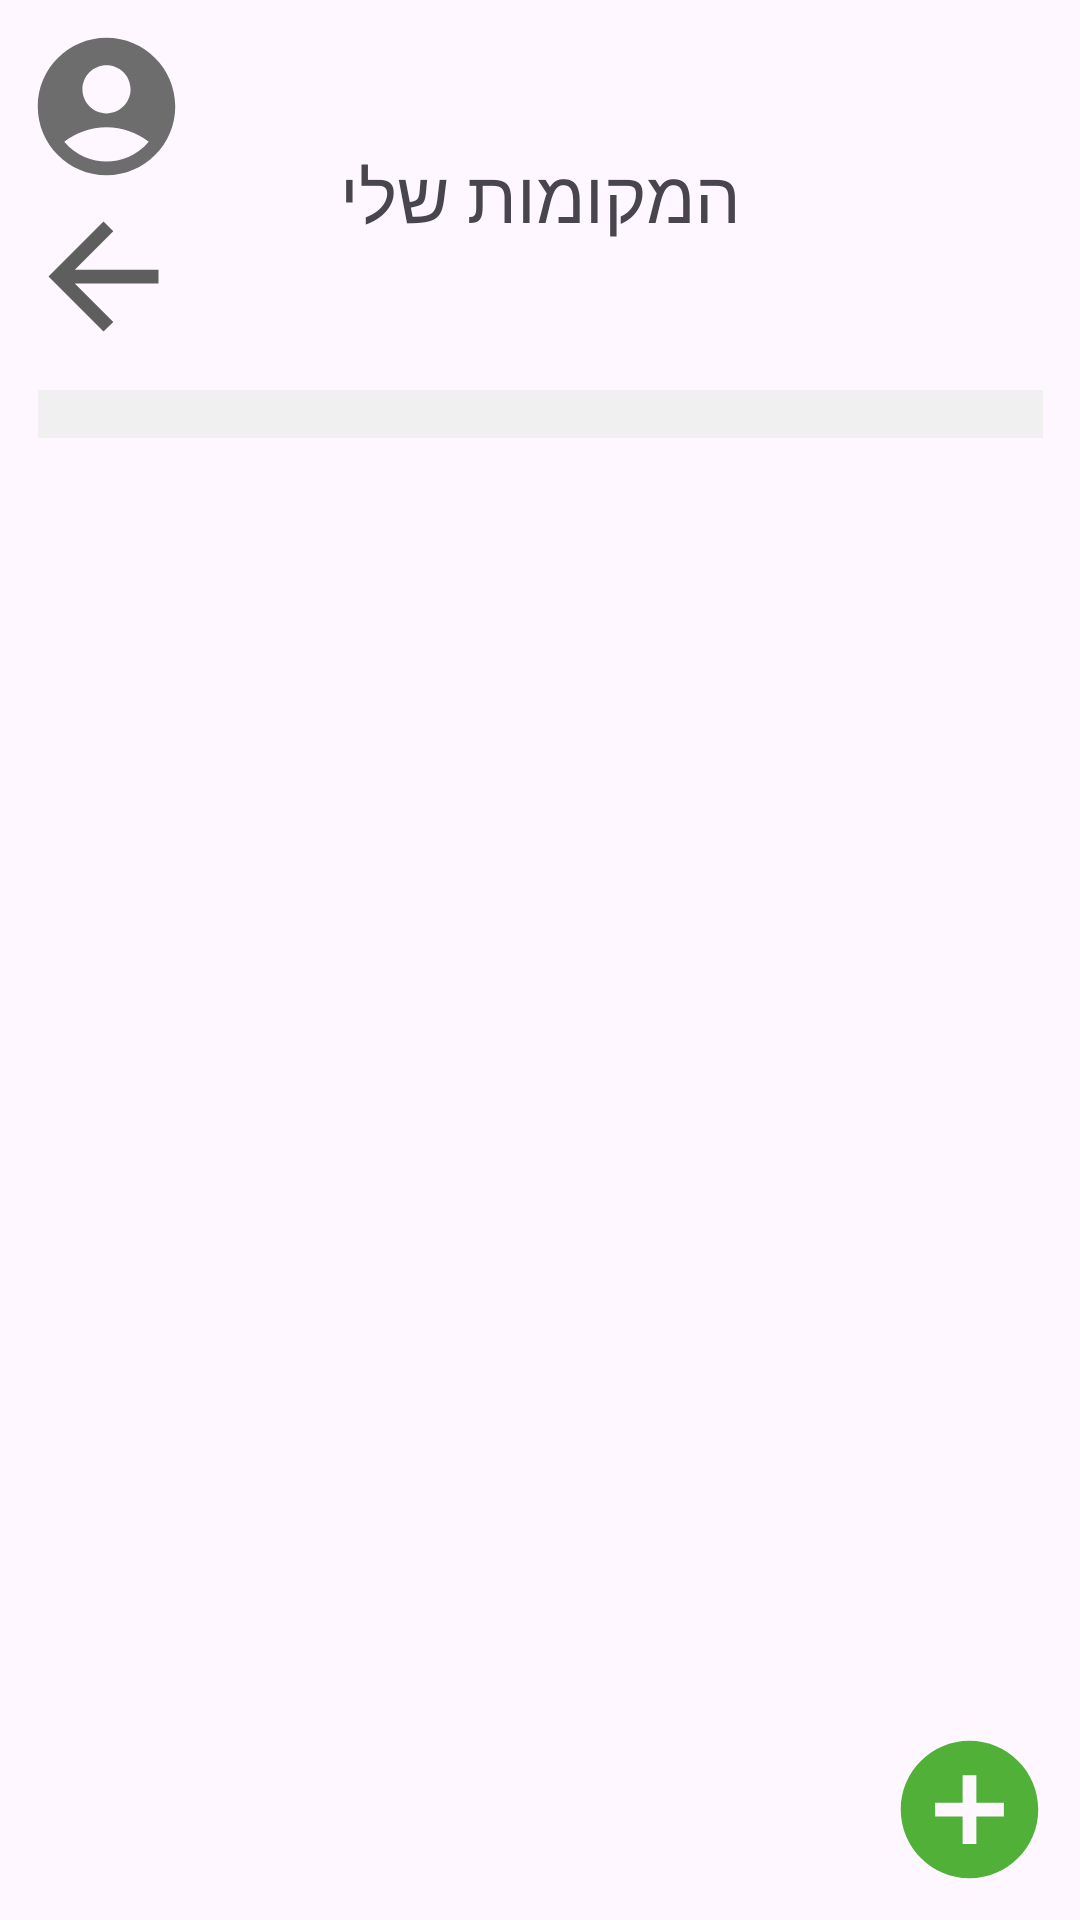

Icon click points for this 1080px×1920px phone screenshot, format (x,y):
account circle: (106,106)
add circle: (969,1809)
arrow back: (103,276)
